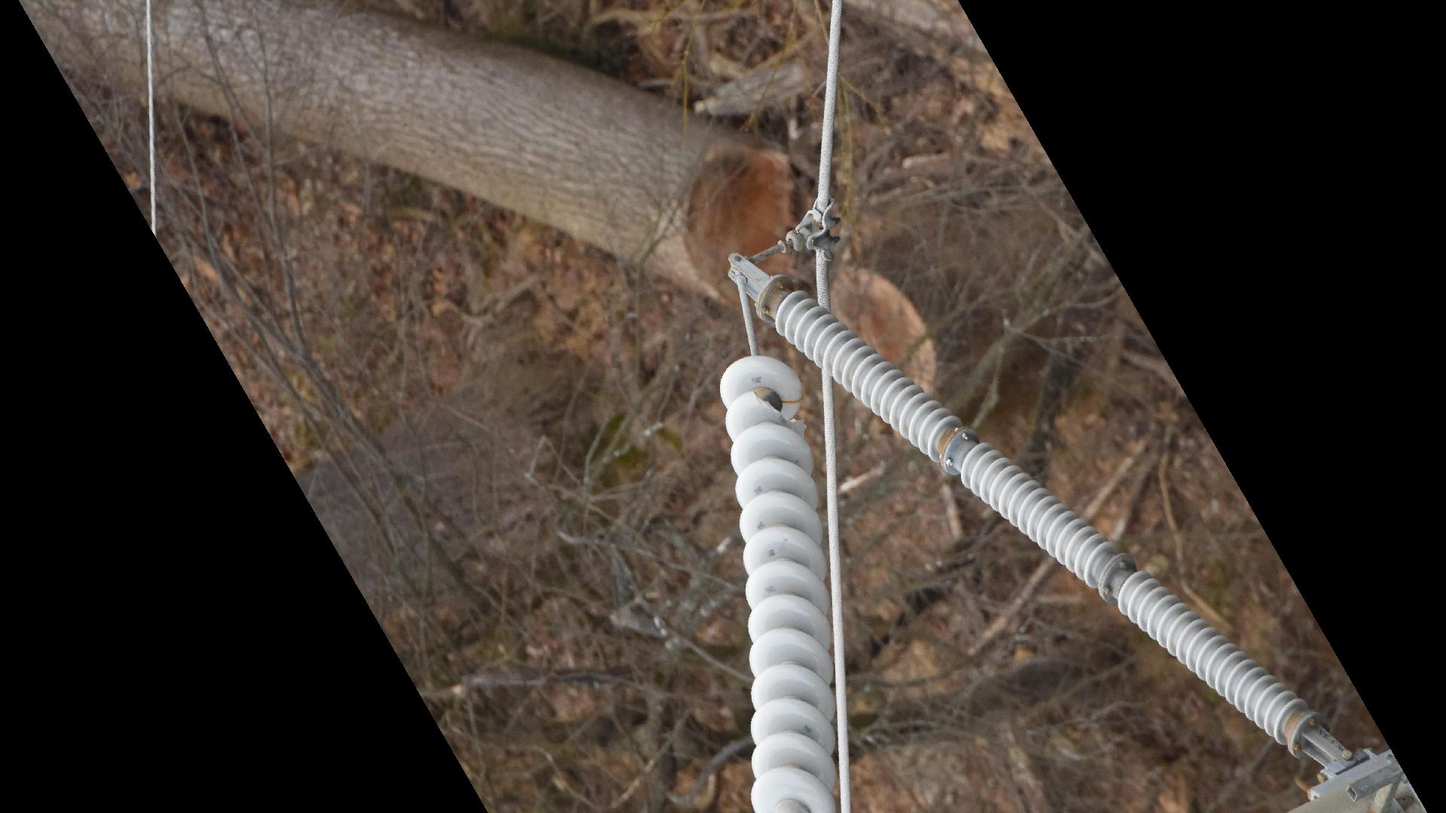insulator: (713, 349, 858, 813), (764, 284, 965, 464), (1112, 565, 1307, 746), (956, 440, 1137, 598)
insulator_breakage: (745, 385, 811, 433)
